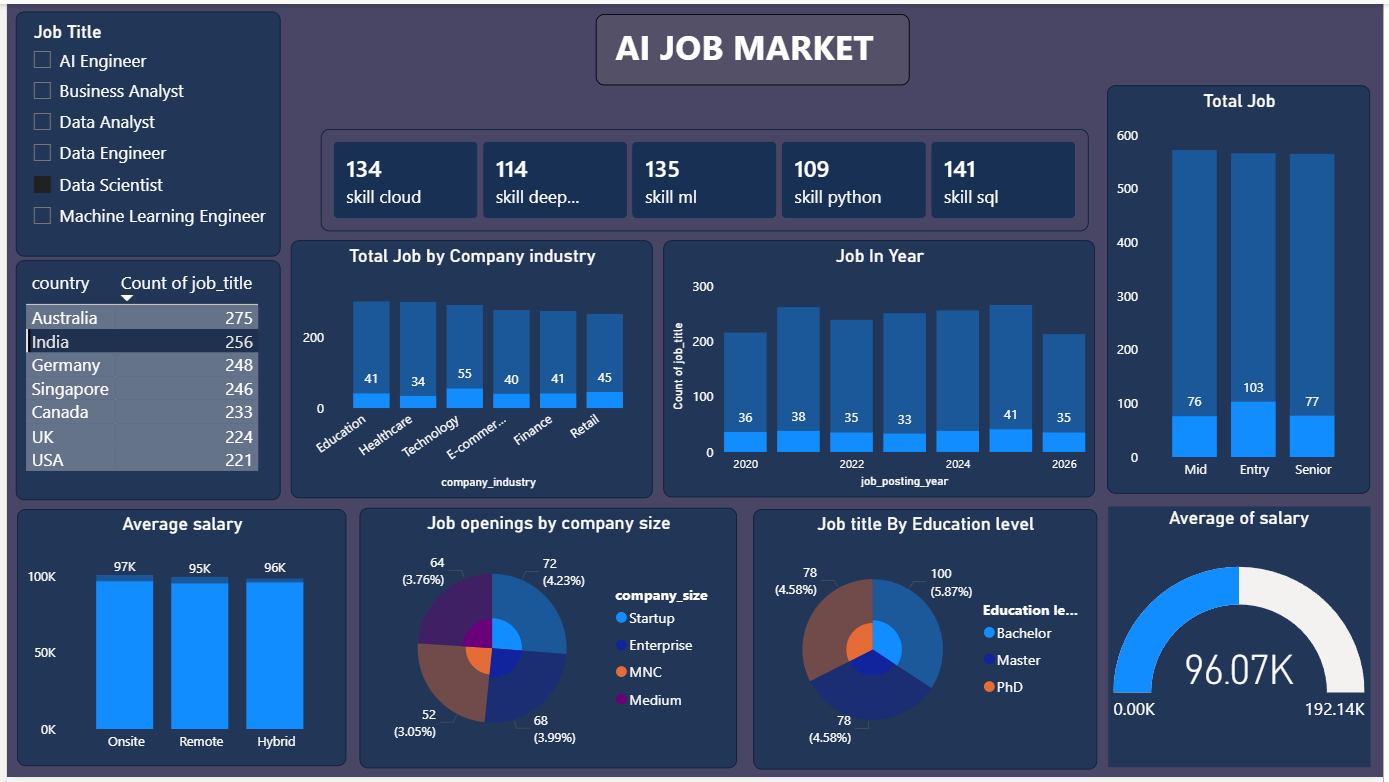

The dashboard page shown, as its layout file describes it:
{"tool":"powerbi","page":{"name":"Page 1","canvas":[1280,720],"ordinal":0},"visuals":[{"type":"slicer","fields":{"Values":["AI Job Market Dataset.job_title"]},"box":[8.4,7.2,246.1,228],"z":0},{"type":"gauge","fields":{"Y":["Avg(AI Job Market Dataset.salary)"]},"box":[1024.3,466.9,243.7,242.5],"z":1000},{"type":"columnChart","title":"Job In Year","fields":{"Category":["AI Job Market Dataset.job_posting_year"],"Y":["CountNonNull(AI Job Market Dataset.job_title)"]},"box":[610.5,219.6,401.7,238.9],"z":2000},{"type":"tableEx","title":"Job Title by Country","fields":{"Values":["AI Job Market Dataset.country","CountNonNull(AI Job Market Dataset.job_title)"]},"box":[8.4,238.9,246.1,223.2],"z":3000},{"type":"columnChart","title":"Total Job by Company industry","fields":{"Category":["AI Job Market Dataset.company_industry"],"Y":["CountNonNull(AI Job Market Dataset.job_title)"]},"box":[264.2,219.6,336.6,240.1],"z":4000},{"type":"columnChart","title":"Total Job","fields":{"Category":["AI Job Market Dataset.experience_level"],"Y":["CountNonNull(AI Job Market Dataset.job_title)"]},"box":[1023.1,76,244.9,380],"z":5000},{"type":"pieChart","title":"Job title By Education level","fields":{"Y":["CountNonNull(AI Job Market Dataset.job_title)"],"Category":["AI Job Market Dataset.education_level"]},"box":[693.7,469.3,319.7,242.5],"z":6000},{"type":"pieChart","title":"Job openings by company size","fields":{"Y":["CountNonNull(AI Job Market Dataset.job_openings)"],"Category":["AI Job Market Dataset.company_size"]},"box":[328.2,468.1,351.1,242.5],"z":7000},{"type":"columnChart","title":"Average salary ","fields":{"Y":["Avg(AI Job Market Dataset.salary)"],"Category":["AI Job Market Dataset.remote_type"]},"box":[9.7,469.3,306.4,238.9],"z":8000},{"type":"cardVisual","fields":{"Data":["AI Job Market Dataset.count cloud skill","AI Job Market Dataset.skill deep learning","AI Job Market Dataset.skill ml","AI Job Market Dataset.skill python","AI Job Market Dataset.skill sql"]},"box":[292,115.8,714.2,95.3],"z":9000},{"type":"textbox","box":[547.7,9.3,291.9,66.3],"z":10000}]}

Visuals, with their boxes in screenshot pixels (x1, y1, x2, y2), scaled from the page's 1280x720 canvas onto the 1389x782 screenshot:
slicer - AI Job Market Dataset.job_title: locate(9, 8, 276, 255)
gauge - Avg(AI Job Market Dataset.salary): locate(1112, 507, 1376, 770)
"Job In Year" columnChart: locate(662, 239, 1098, 498)
"Job Title by Country" tableEx: locate(9, 259, 276, 502)
"Total Job by Company industry" columnChart: locate(287, 239, 652, 499)
"Total Job" columnChart: locate(1110, 83, 1376, 495)
"Job title By Education level" pieChart: locate(753, 510, 1100, 773)
"Job openings by company size" pieChart: locate(356, 508, 737, 772)
"Average salary " columnChart: locate(11, 510, 343, 769)
cardVisual - AI Job Market Dataset.count cloud skill x AI Job Market Dataset.skill deep learning: locate(317, 126, 1092, 229)
textbox: locate(594, 10, 911, 82)
